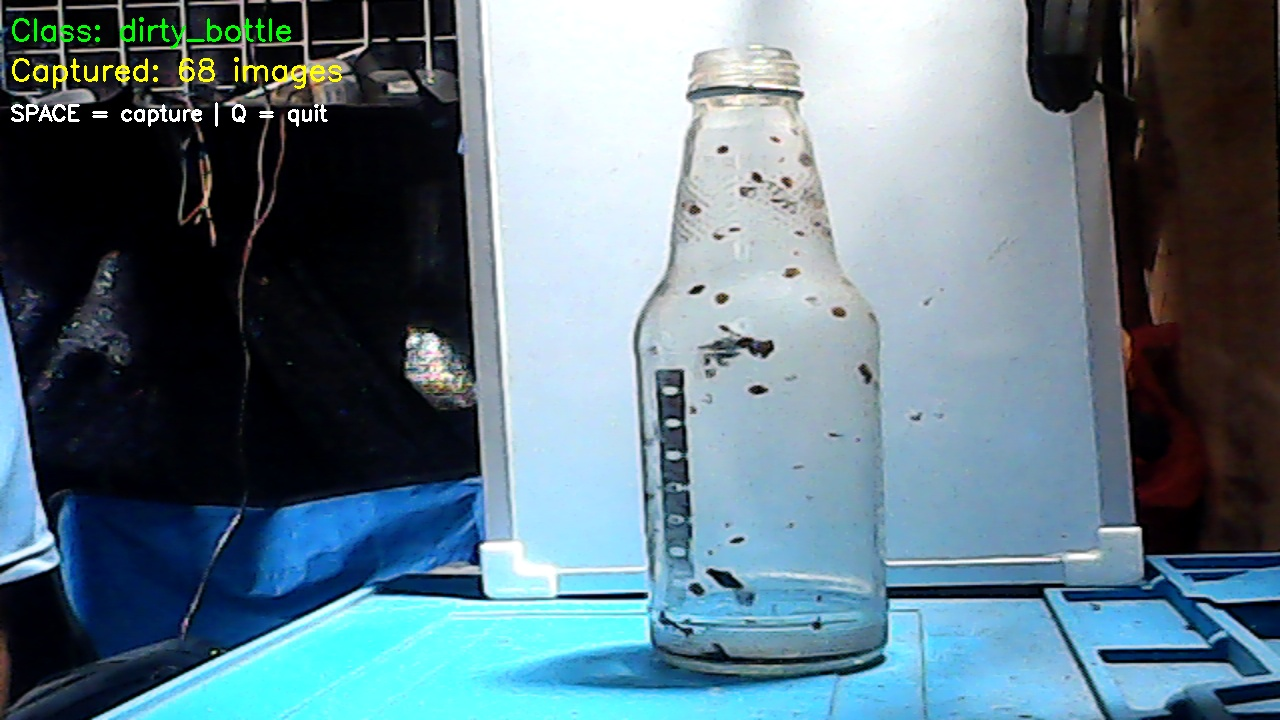dirty_bottle: (629, 41, 894, 673)
